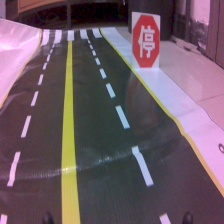stop: (130, 10, 161, 71)
